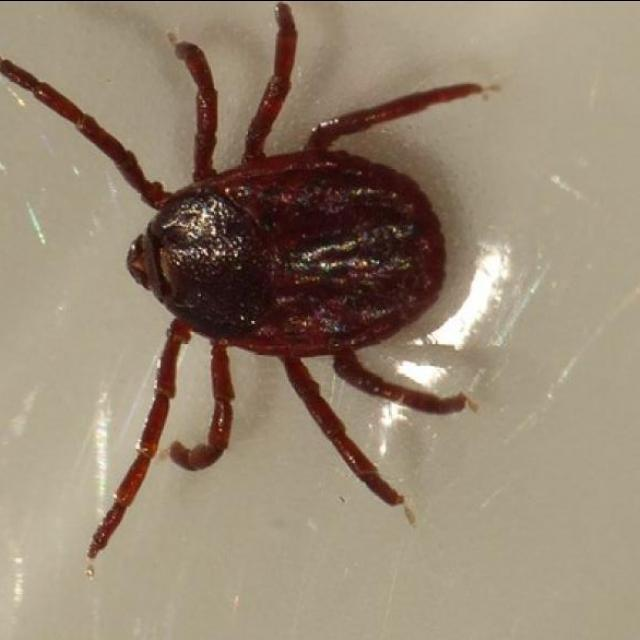Rhipicephalus Sanguineus-F: (0, 0, 486, 576)
